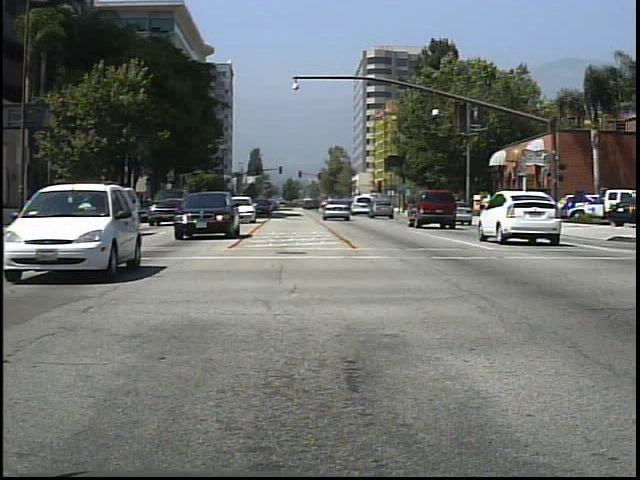person: (439, 192, 457, 225), (477, 190, 495, 220)
